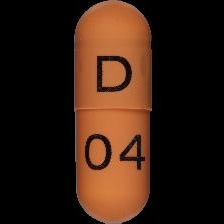48433-328: (0, 0, 224, 224)
